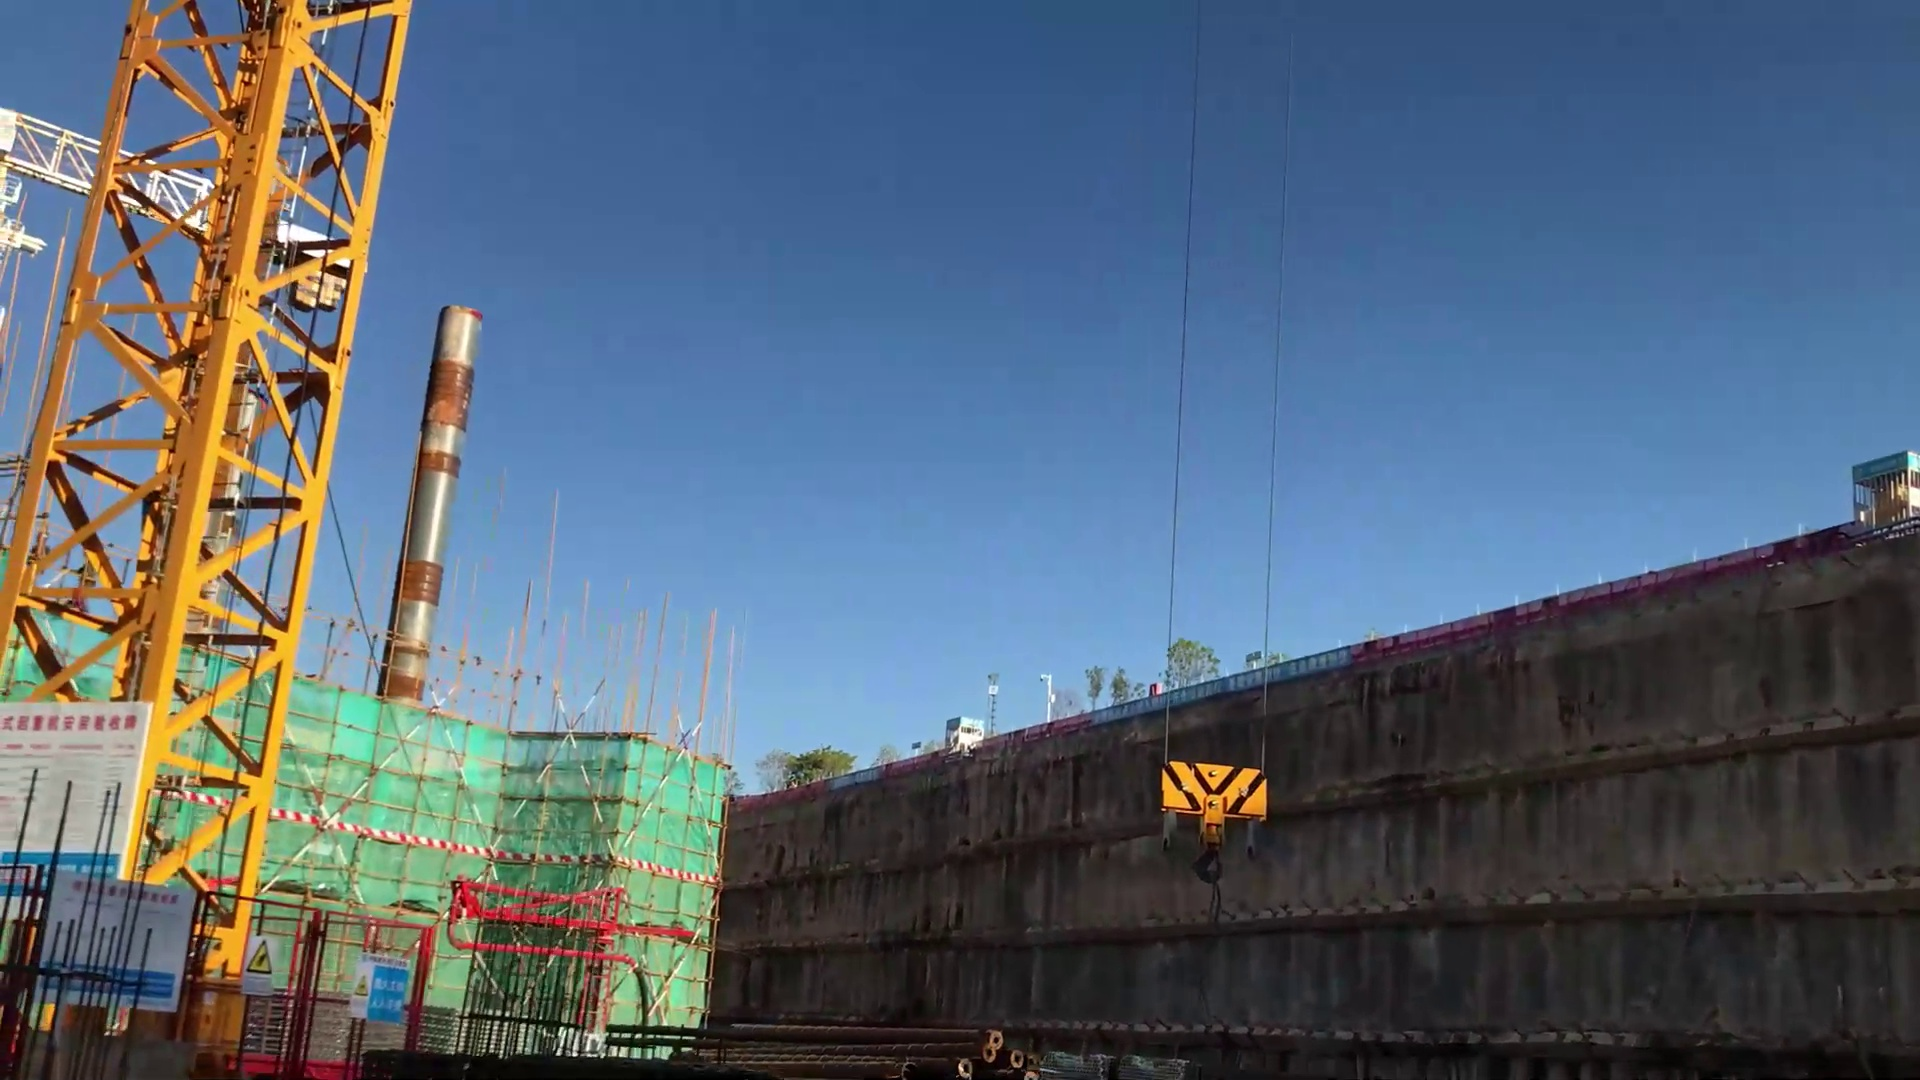hook: (1153, 742, 1279, 889)
